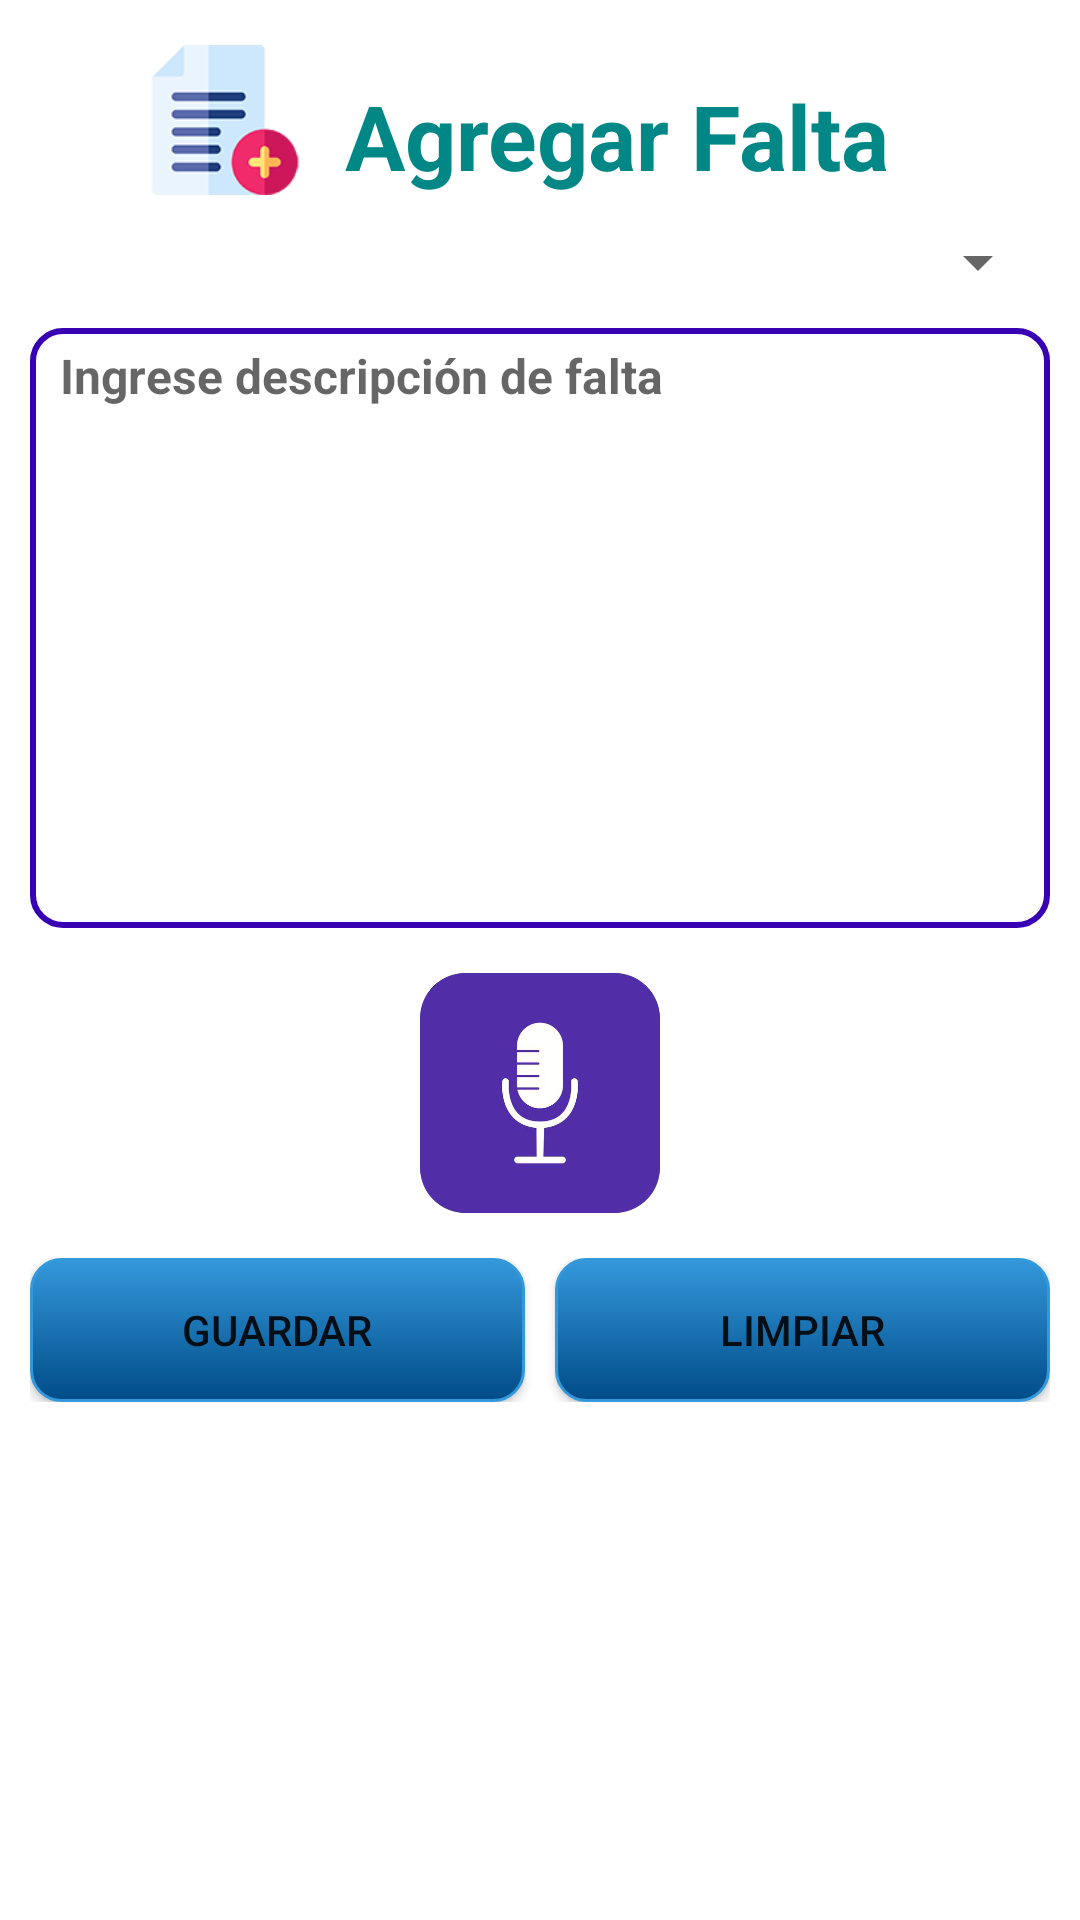

Where to tap for icons on this 1080×1920 app screen, as (x=x, y=y):
add: (x=226, y=120)
mic: (x=540, y=1093)
